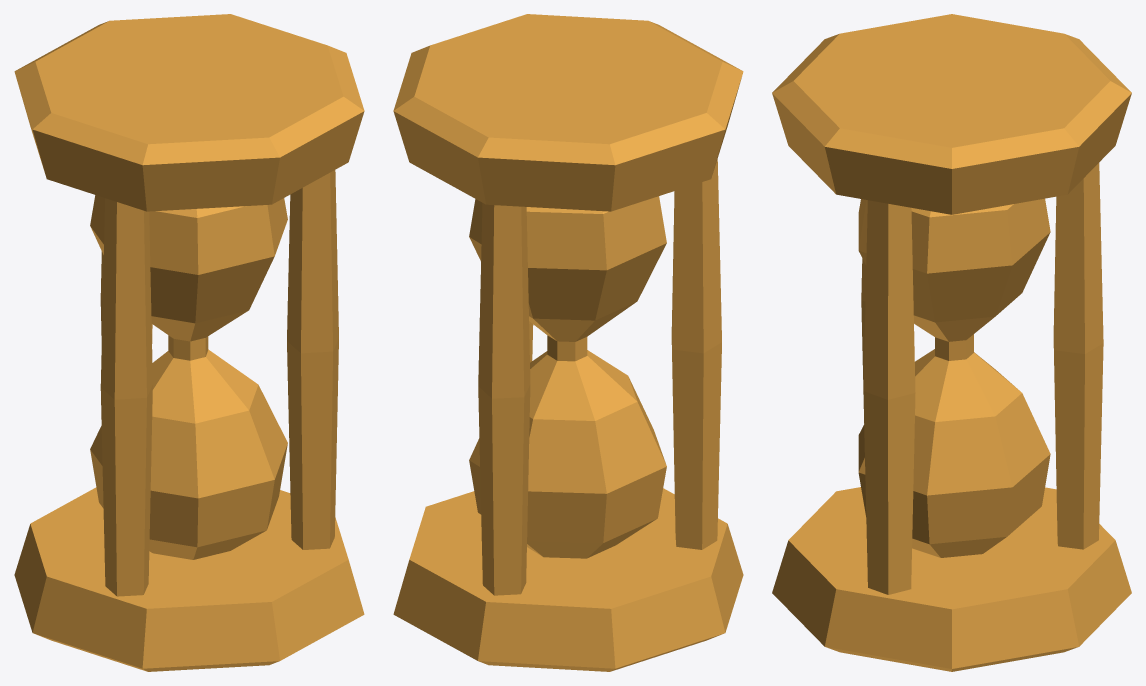
File: props-hourglass.glb
3 views of the same model, side by side, from view 1: azimuth 30°, elevation 25°; view 2: azimuth 150°, elevation 25°; view 3: azimuth 270°, elevation 25° (orthographic).
Parts seen in each view (by area): view 1: hourglass; view 2: hourglass; view 3: hourglass.
Boxes of the visible parts, bbox=[...] form: hourglass: bbox=[14, 14, 364, 671]; hourglass: bbox=[393, 14, 743, 671]; hourglass: bbox=[772, 14, 1131, 671].
Bounding box in the file's own units: 0.1345 × 0.216 × 0.1345.
